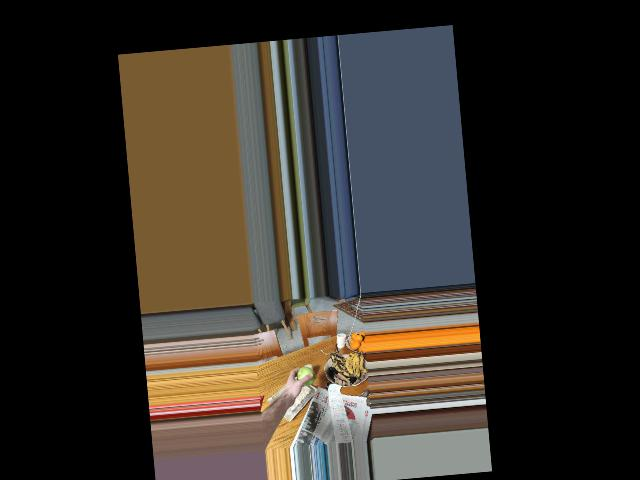apple: (294, 365, 316, 387)
